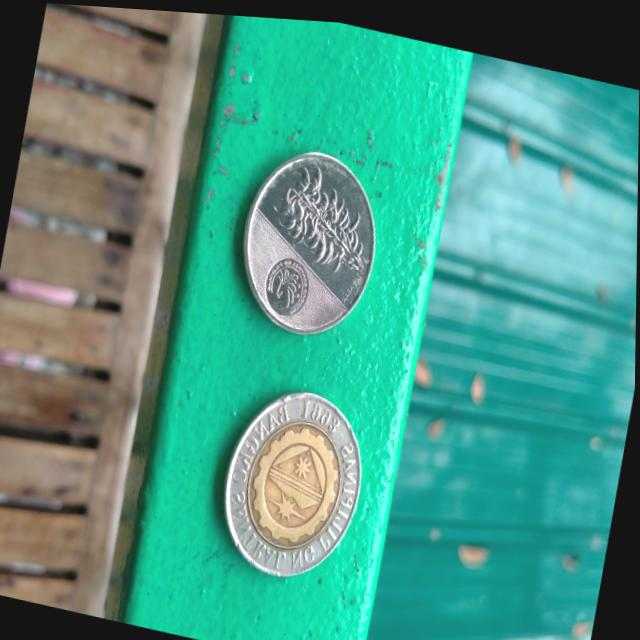10_Old_Back: (211, 372, 374, 585)
5_New_Back: (259, 150, 386, 282)
